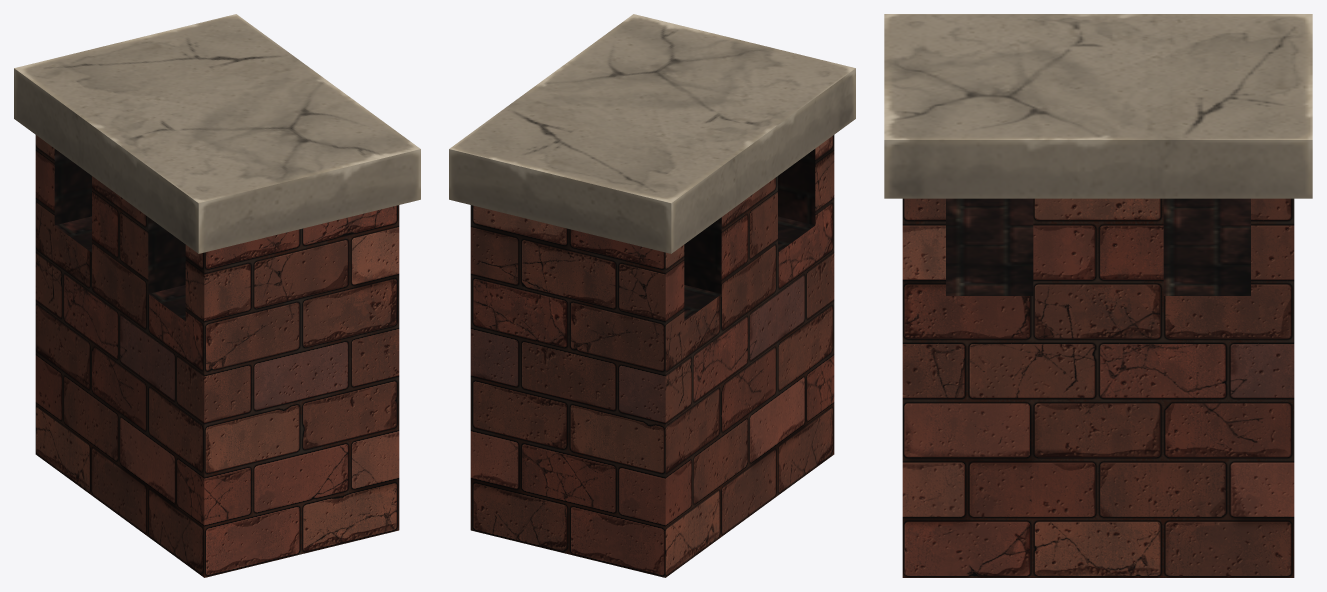
File: chimney_roof02.fbx
3 renders of one model, left to right at view 1: azimuth 30°, elevation 25°; view 2: azimuth 150°, elevation 25°; view 3: azimuth 270°, elevation 25°, orthographic. The views are drawn at different scales.
Visible parts, largest first — view 1: chimney_roof02; view 2: chimney_roof02; view 3: chimney_roof02.
Boxes of the visible parts, x1,y1,x2,y2 form: chimney_roof02: [14, 14, 420, 577]; chimney_roof02: [449, 14, 855, 577]; chimney_roof02: [884, 14, 1312, 577].
Bounding box in the file's own units: 114 × 188 × 164.
